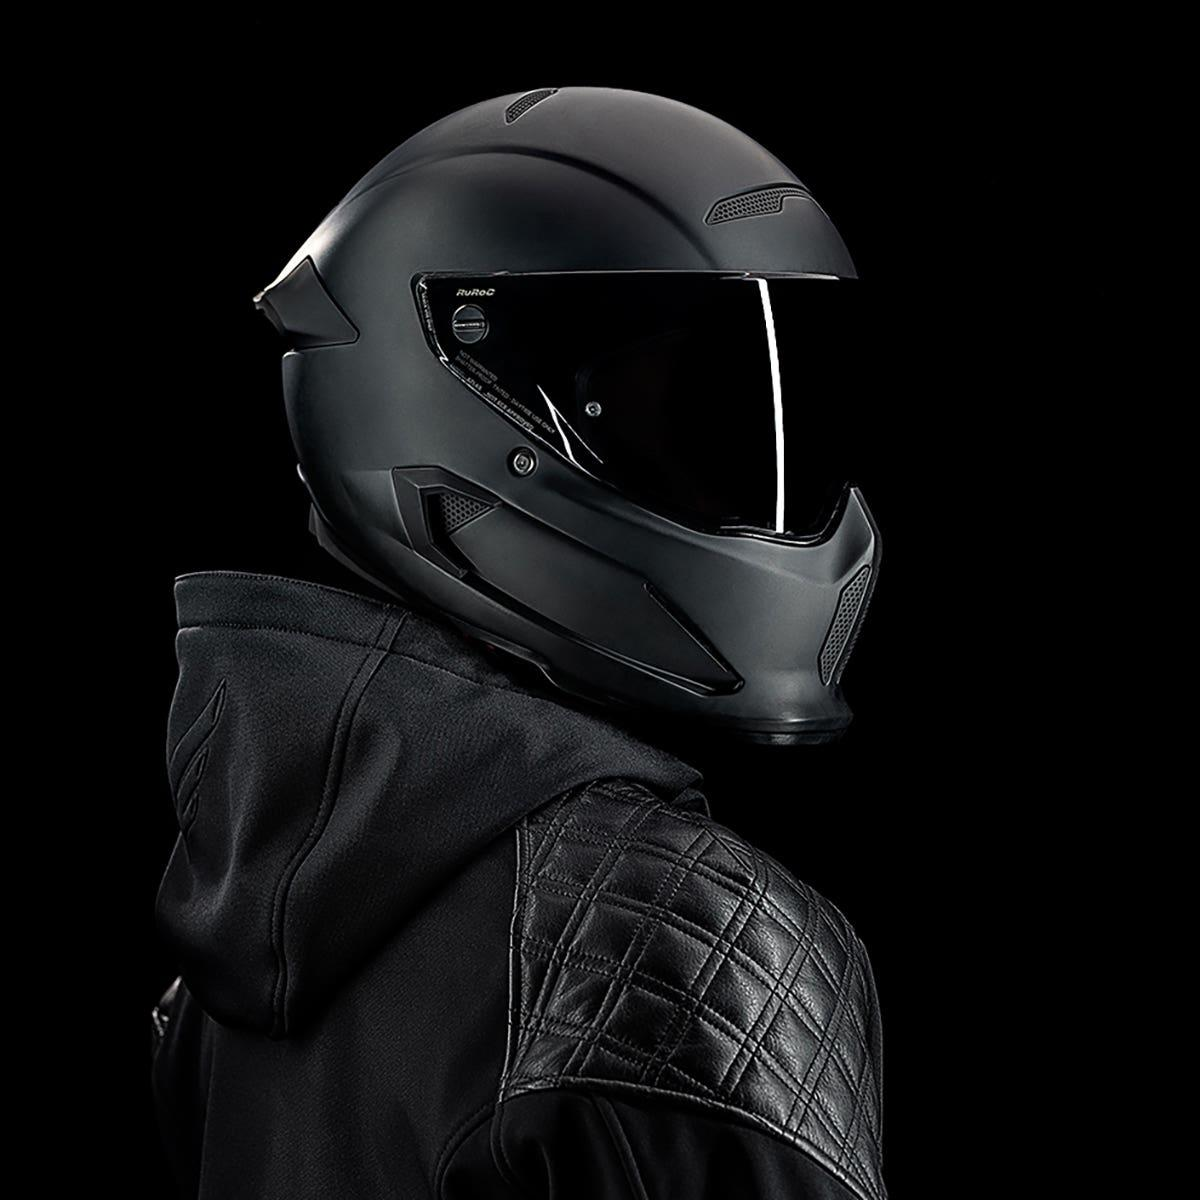Helmet: (246, 84, 888, 760)
